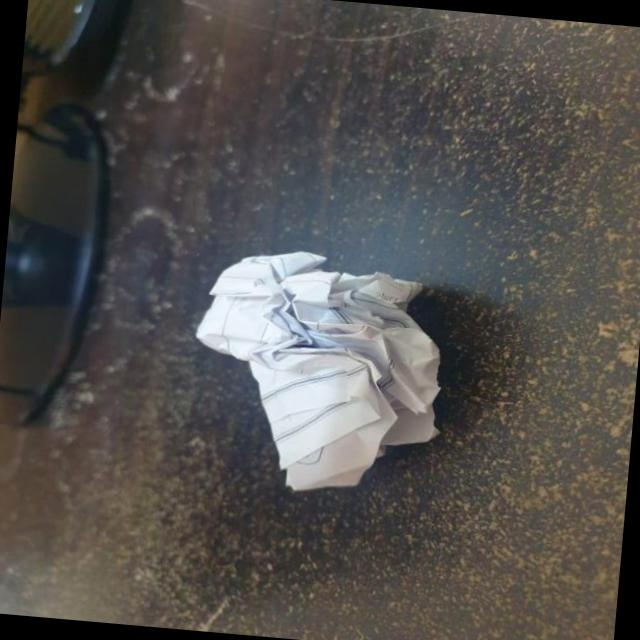cardboard paper: (194, 250, 436, 488)
